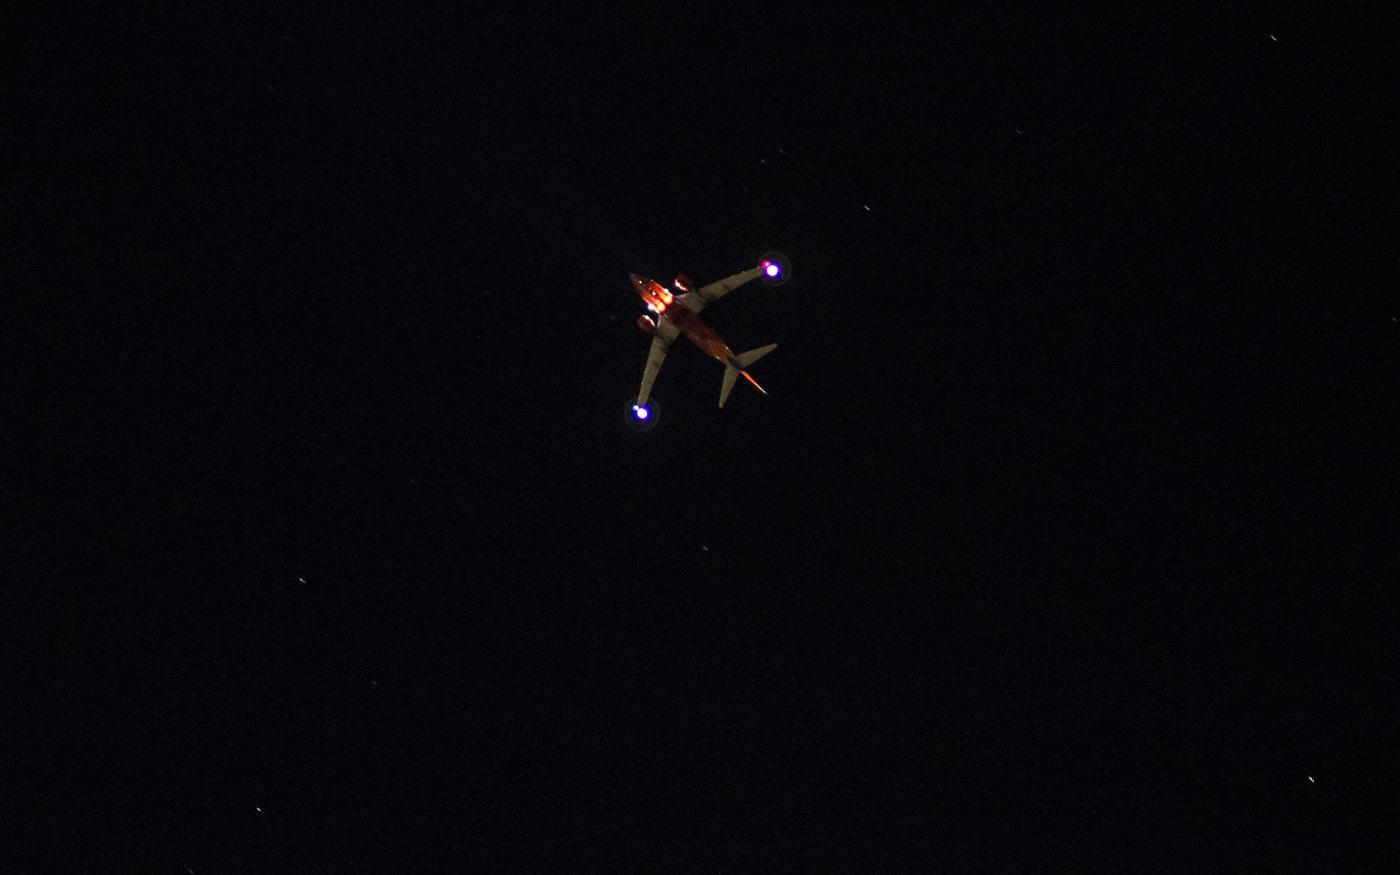Plane: (634, 237, 801, 451)
